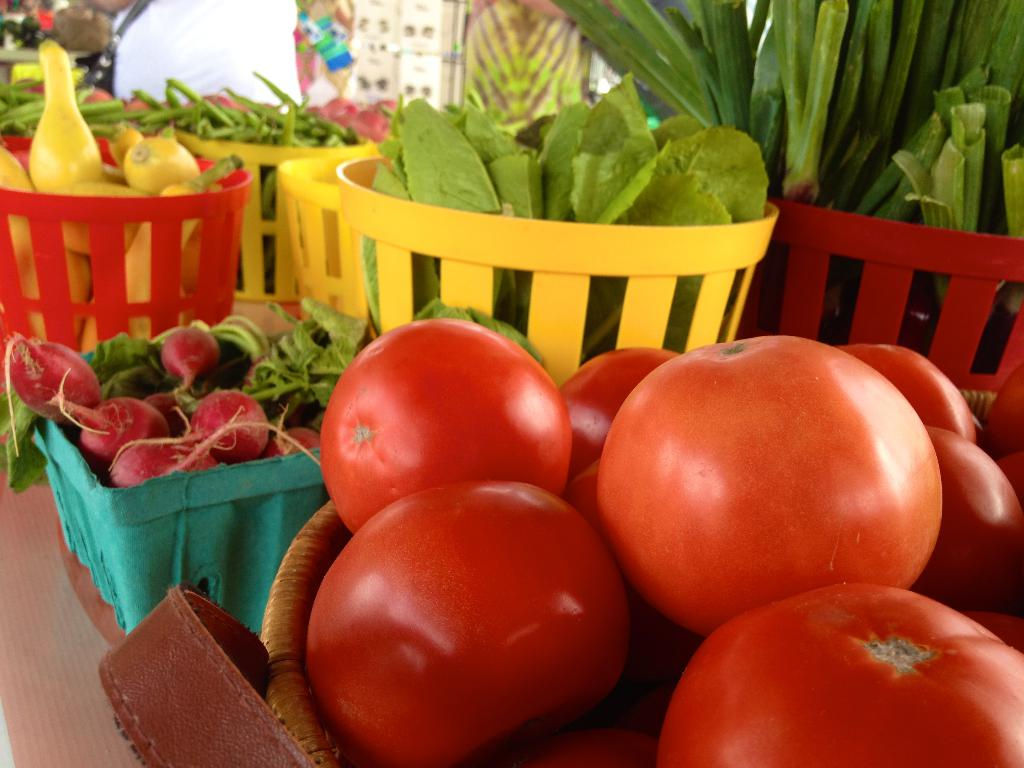Tomato: (583, 316, 949, 638), (309, 474, 630, 767), (657, 579, 1023, 767), (321, 314, 573, 536), (916, 420, 1023, 605), (549, 346, 672, 499), (839, 341, 978, 436), (527, 725, 662, 767), (983, 364, 1023, 449), (997, 445, 1023, 501)
